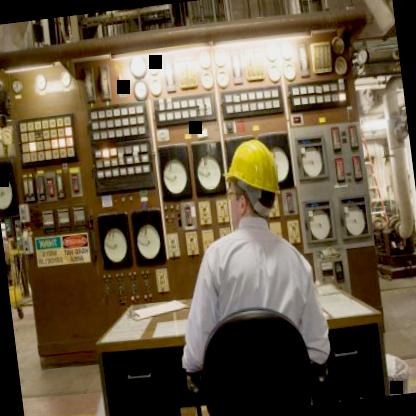helmet: (216, 126, 288, 236)
